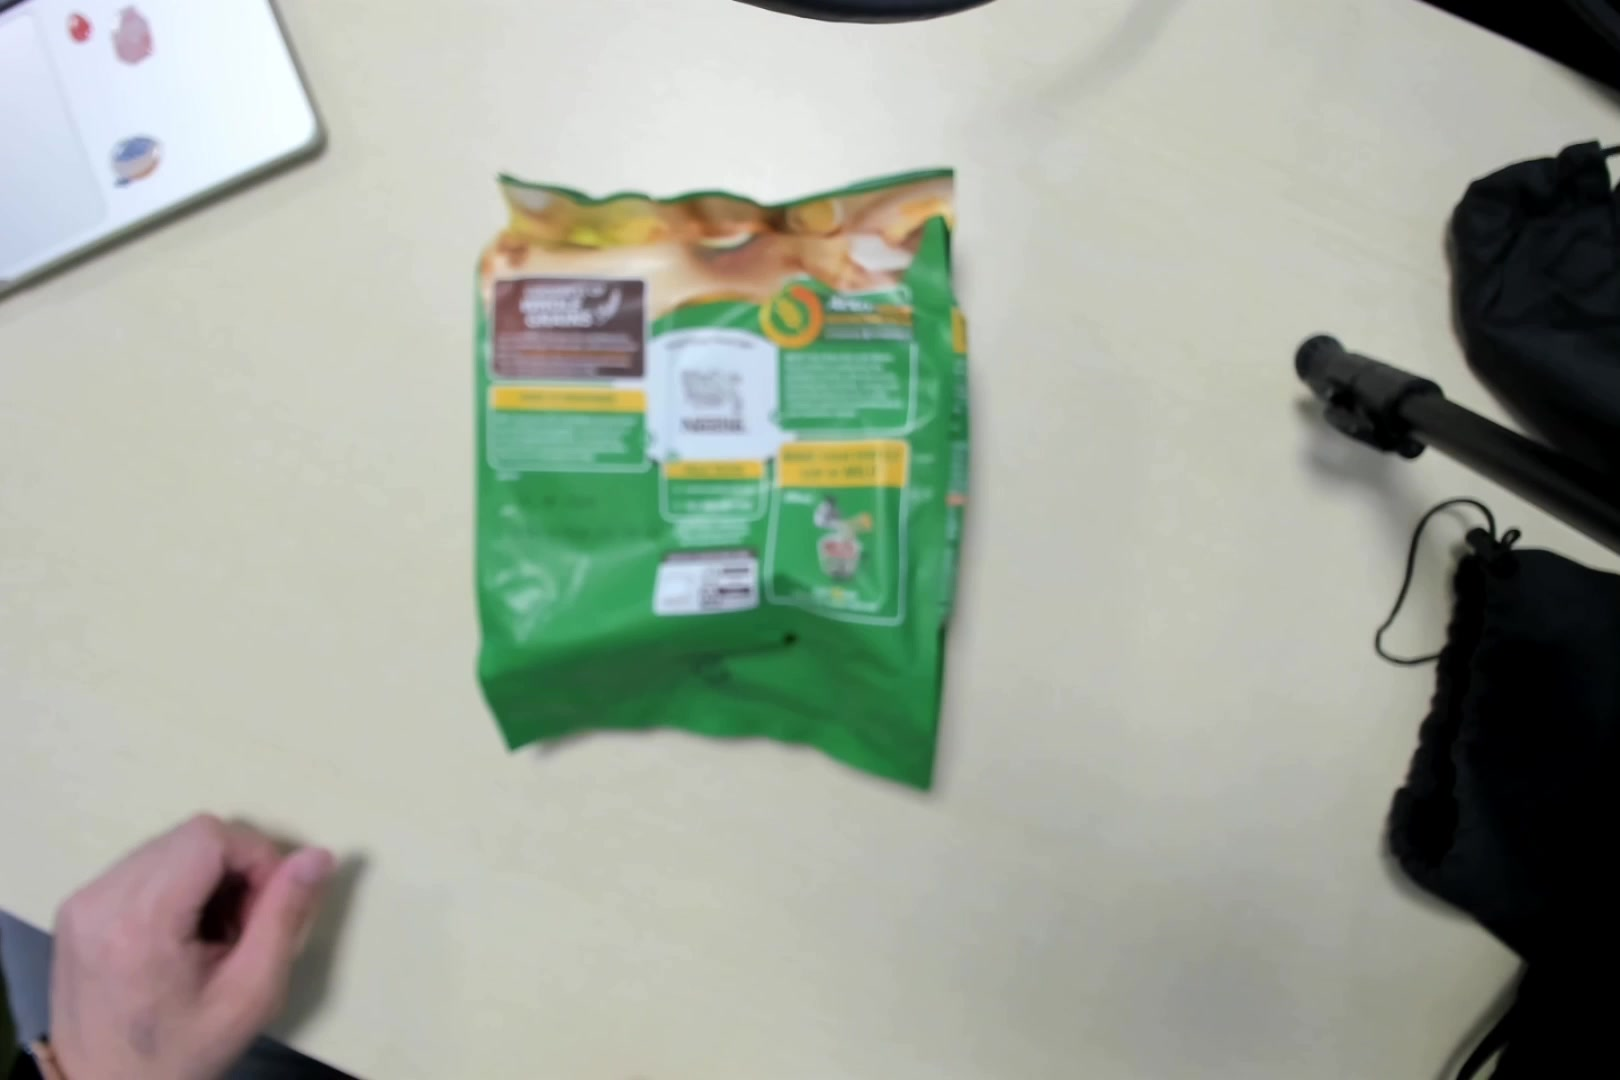ChocolateMaltPowder_300-399g_NonHalal_NonHealthy: (471, 170, 972, 782)
